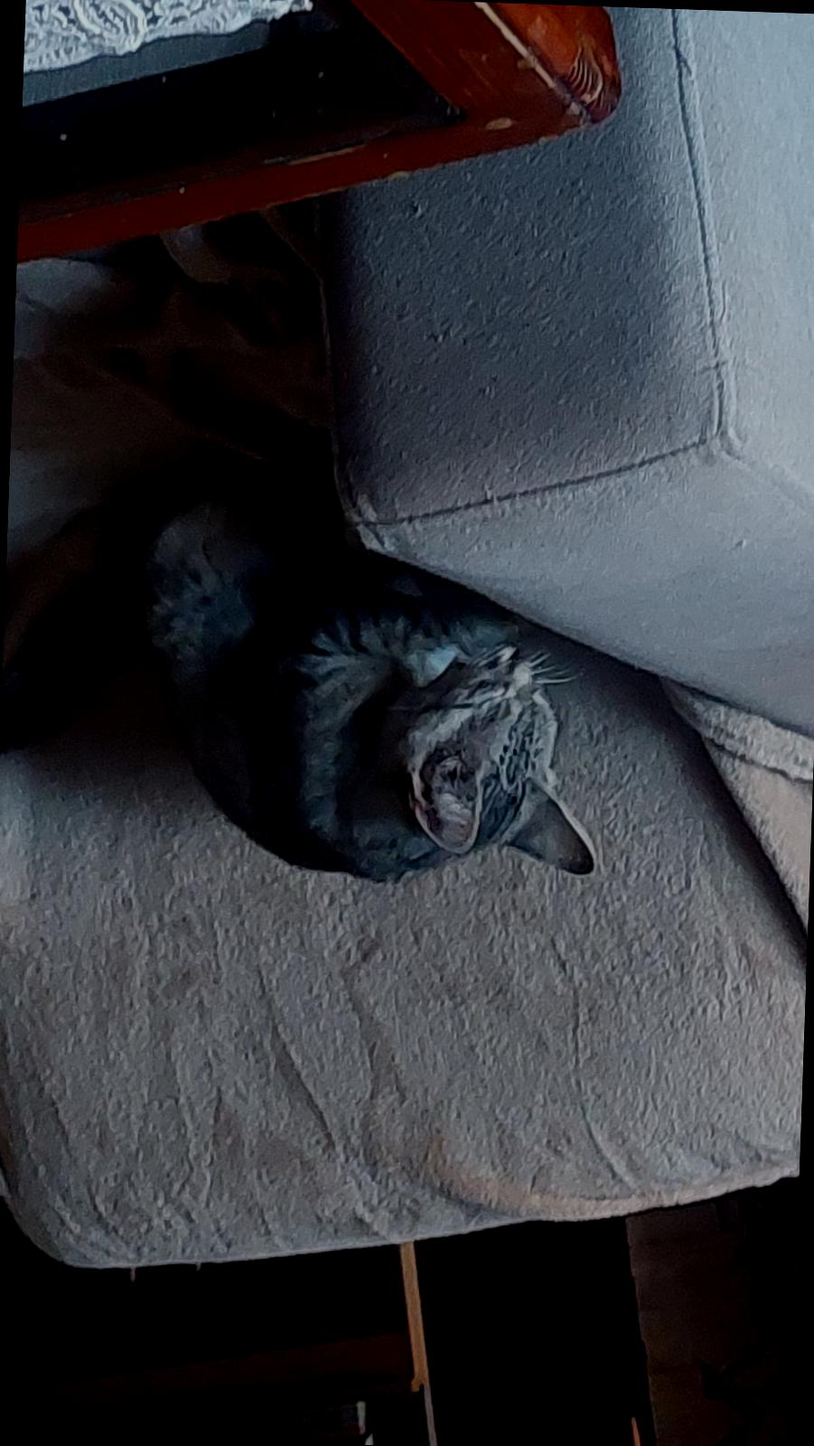macka: (0, 445, 611, 894)
